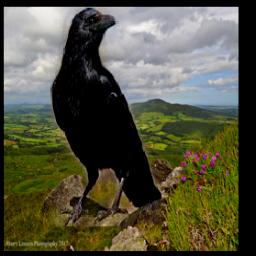Crow: (51, 9, 162, 227)
